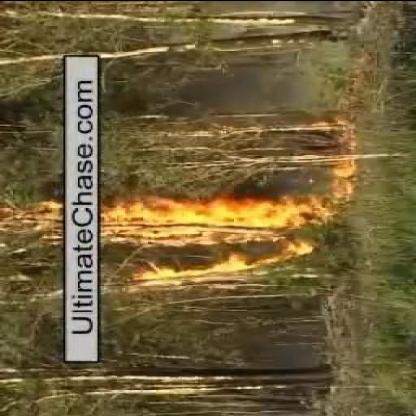foggia-v2-map80-epoch100 - v1 4323: (110, 201, 306, 239)
